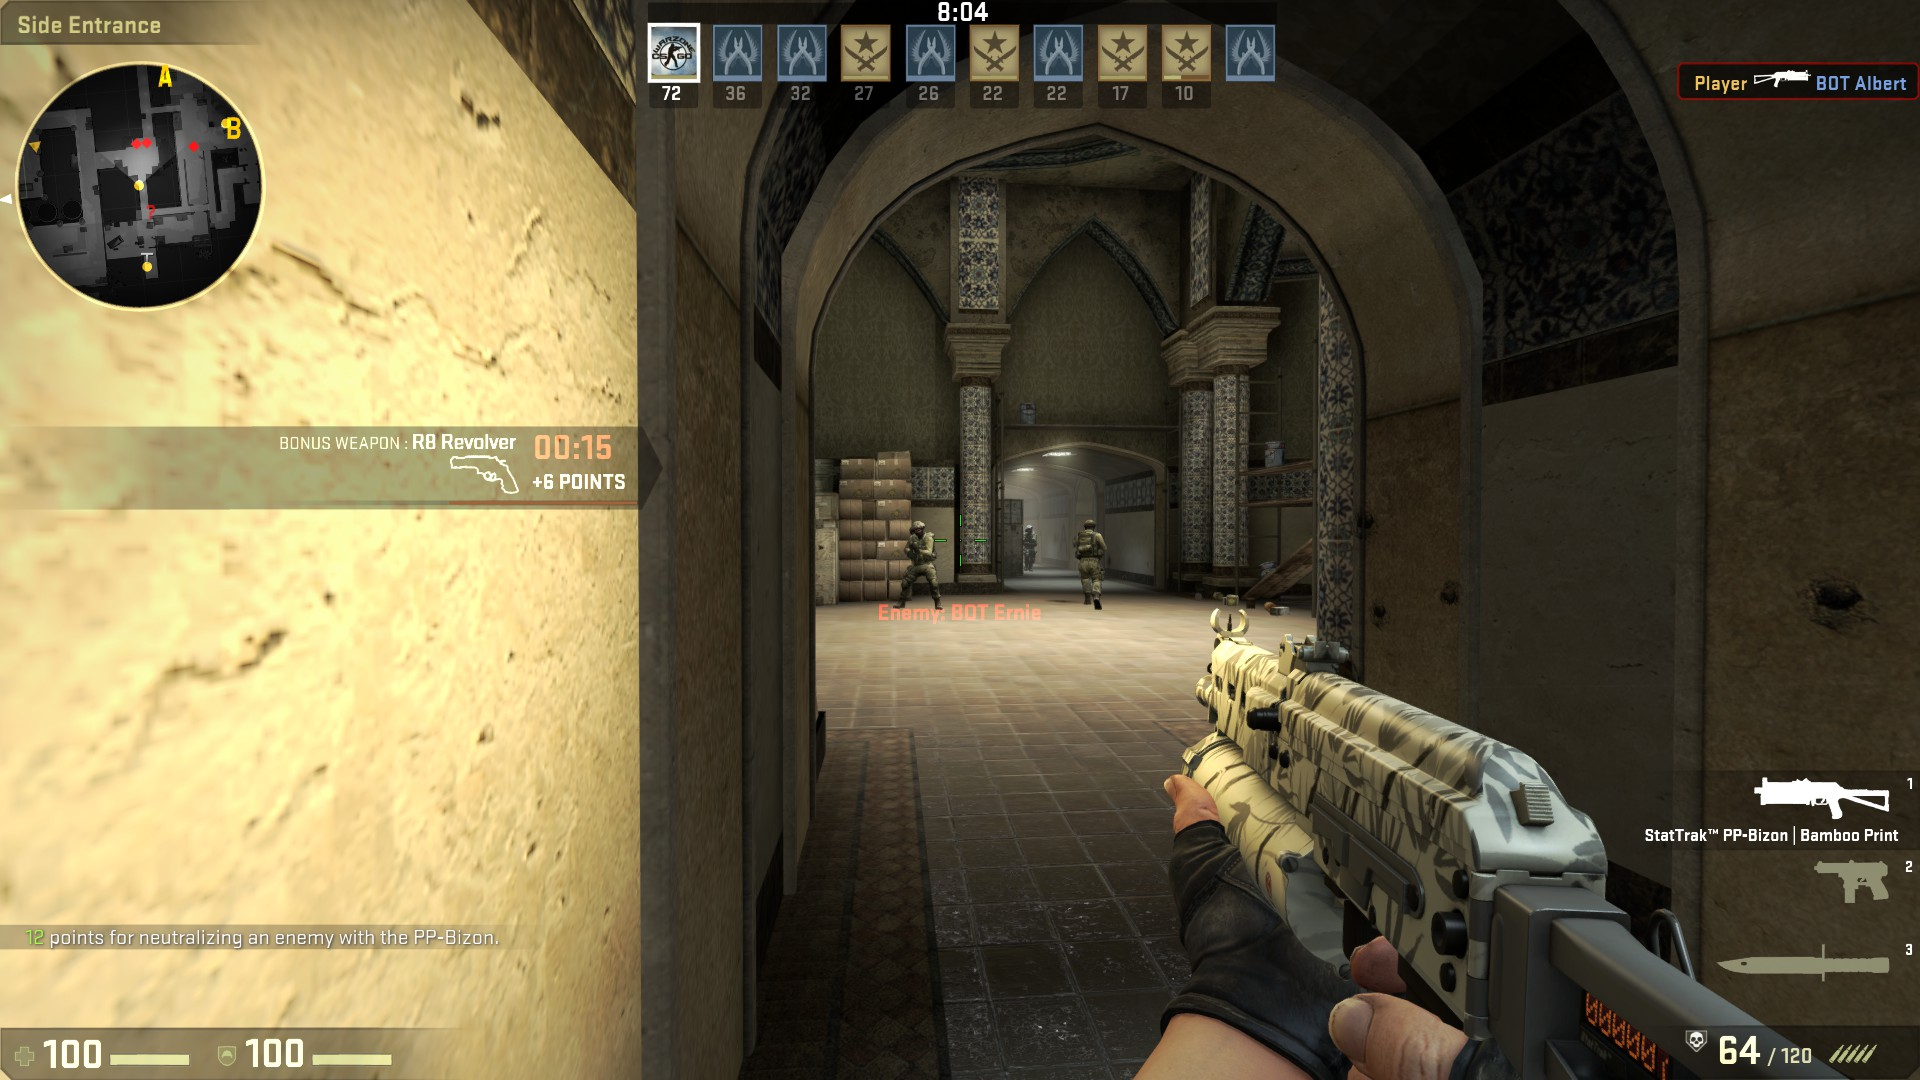c: (899, 521, 942, 611), (1073, 518, 1106, 611), (1021, 522, 1040, 574)
ch: (913, 521, 926, 538), (1084, 520, 1096, 533), (1025, 524, 1034, 534)
